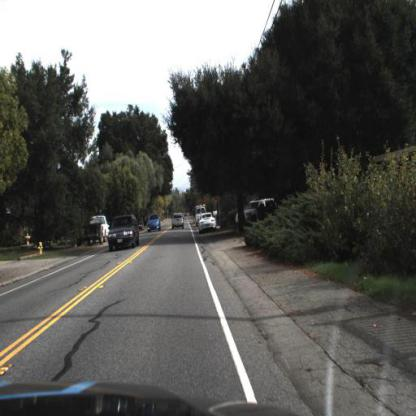car: (236, 197, 278, 232), (105, 212, 142, 251), (195, 212, 219, 238), (88, 215, 109, 243), (198, 210, 218, 236), (145, 211, 163, 235), (147, 213, 164, 236), (171, 211, 187, 232)
